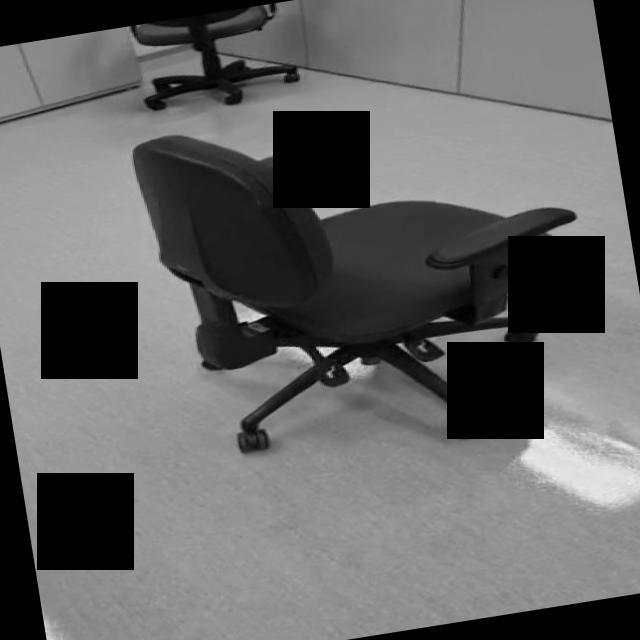chair: (130, 72, 610, 481)
